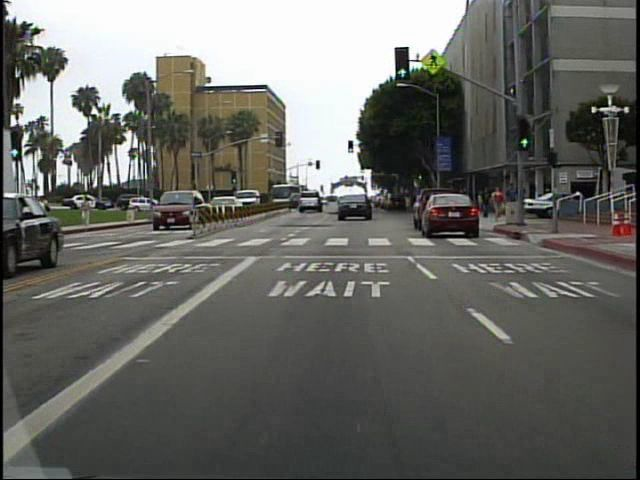person: (490, 186, 506, 223), (506, 181, 520, 219), (83, 192, 97, 228)
